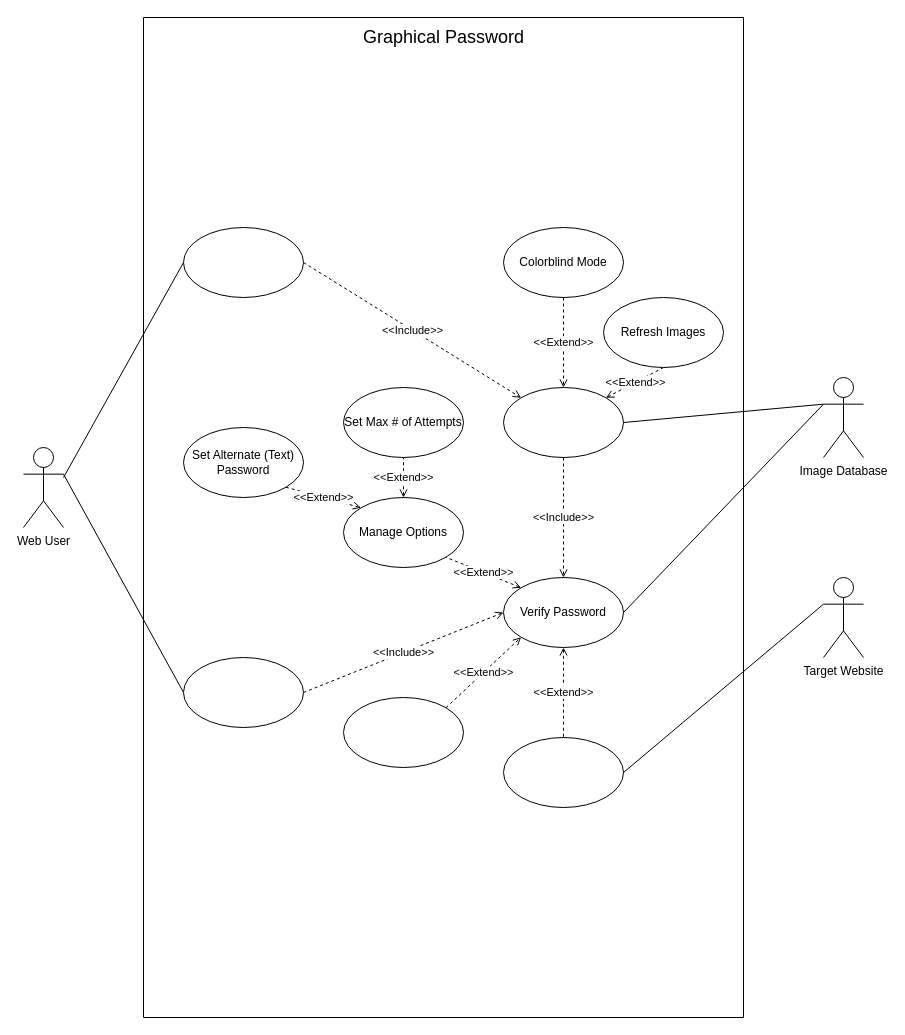
This 905x1035 diagram has some shape labels left out. The shapes that lost their labels are listed below. From the top down, each one's centre as x and y in pixels, then its label:
At pixel 243 262: "Sign-Up".
At pixel 563 422: "Set Password".
At pixel 243 692: "Log In".
At pixel 403 732: "Display Login Error".
At pixel 563 772: "Visit Site".
